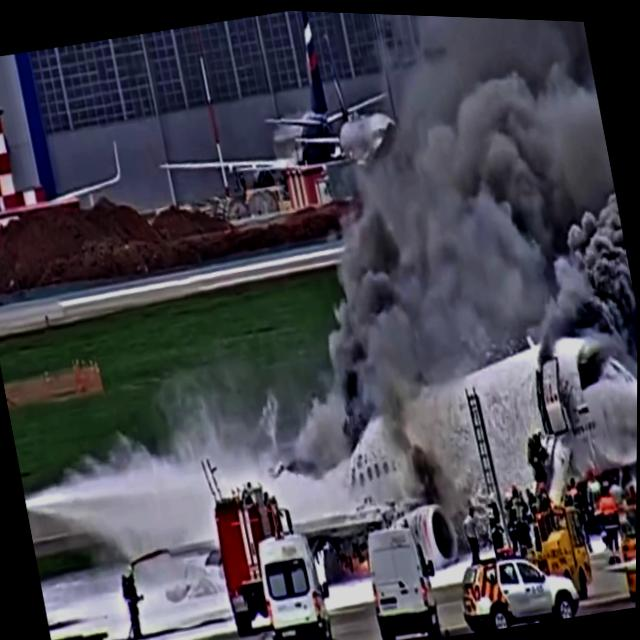smoke: (433, 13, 638, 326), (569, 162, 639, 384)
